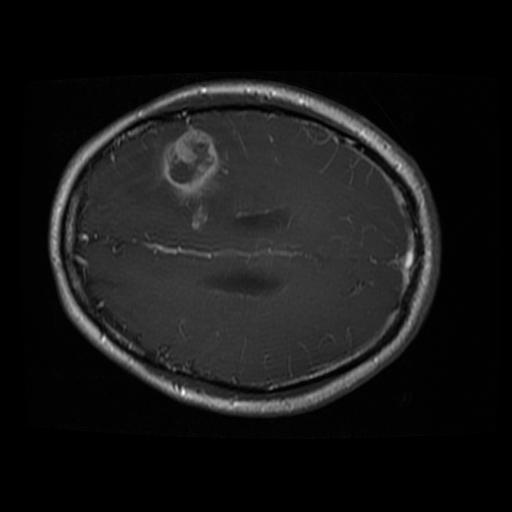glioma: (140, 117, 236, 233)
